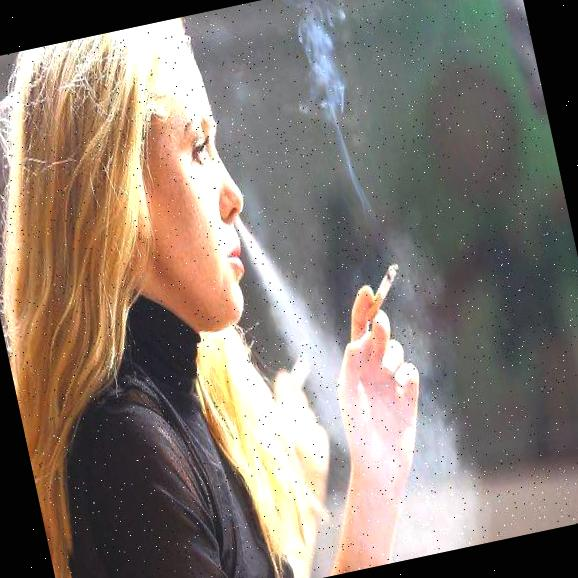smoke: (244, 196, 508, 578), (270, 0, 383, 133)
